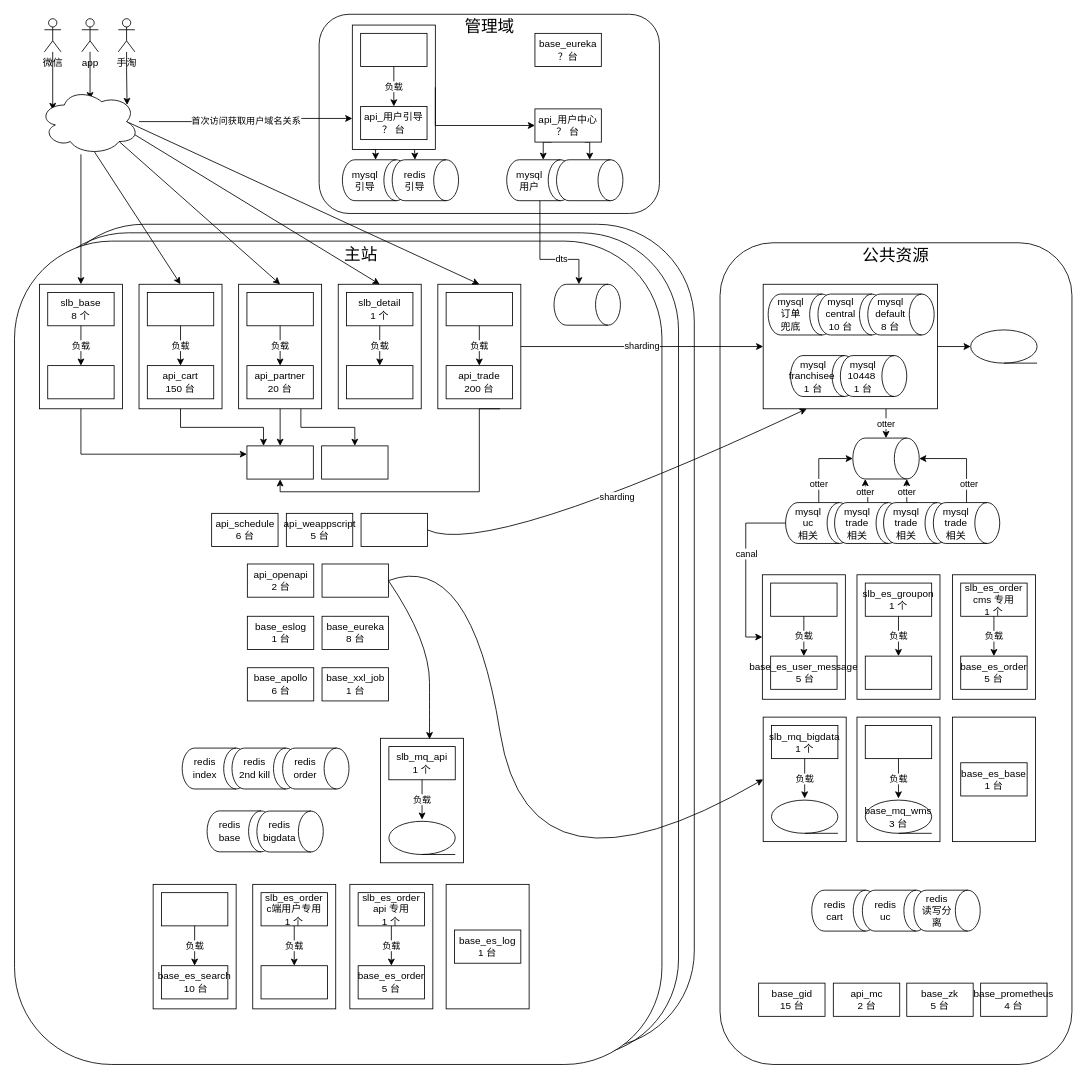
The diagram is 1086 pixels wide and 1080 high, and some of its shapes have lost their labels. Here are the shapes that lost their labels. From the top down, the centre of each, then its label:
At pixel 393 50: "slb_用户引导 ？个".
At pixel 89 121: "DNS 解析".
At pixel 589 180: "redis 用户".
At pixel 180 309: "slb_cart 2 个".
At pixel 279 309: "slb_partner 1 个".
At pixel 479 309: "slb_trade 2 个".
At pixel 586 304: "mysql 主库".
At pixel 1003 346: "base_kafka_order 5 台".
At pixel 80 382: "api_base 1500 台".
At pixel 379 382: "api_detail 200 台".
At pixel 279 462: "api_thirdparty 15 台".
At pixel 354 462: "api_wechatgroup 2 台".
At pixel 885 458: "mysql 镜像".
At pixel 393 530: "api_order 4 台".
At pixel 354 580: "api_mq 50 台".
At pixel 803 599: "slb_es_user_message 1 个".
At pixel 898 672: "base_es_groupon 10 台".
At pixel 898 742: "slb_mq_wms 1 个".
At pixel 804 816: "base_mq_bigdata 3 台".
At pixel 421 837: "base_mq_api 3 台".
At pixel 194 909: "slb_es_search 1 个".
At pixel 293 982: "base_es_order 共 15 台 热数据 9 台".
